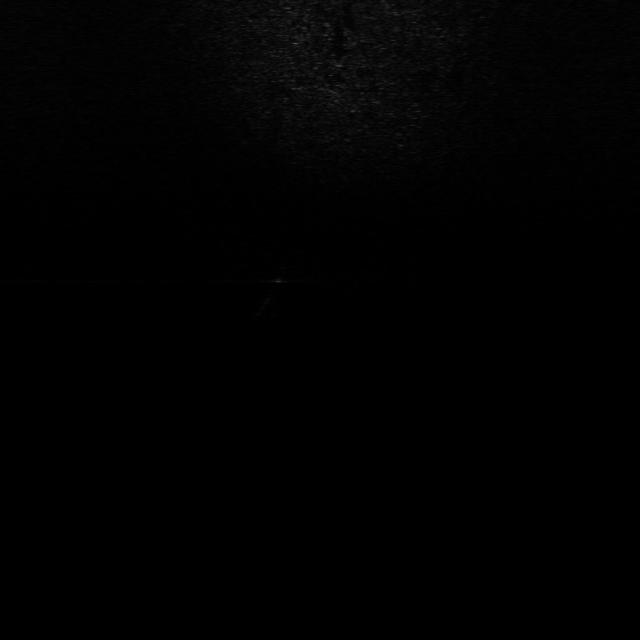human body: (246, 252, 303, 324)
